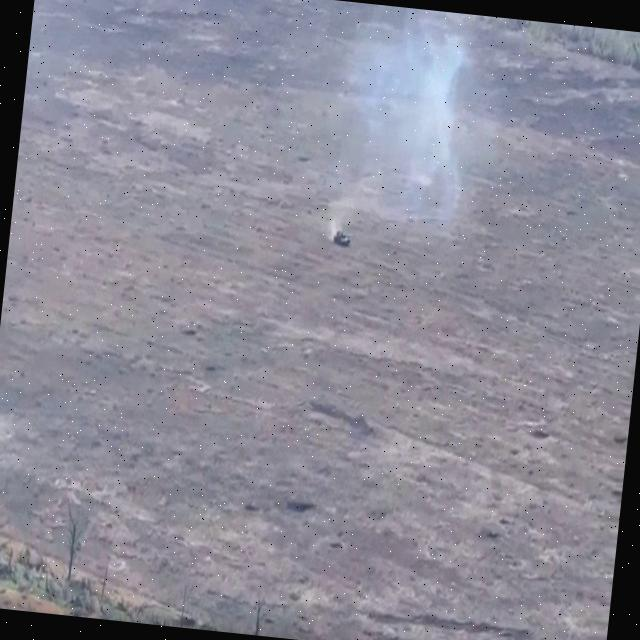MBT: (332, 227, 356, 250)
